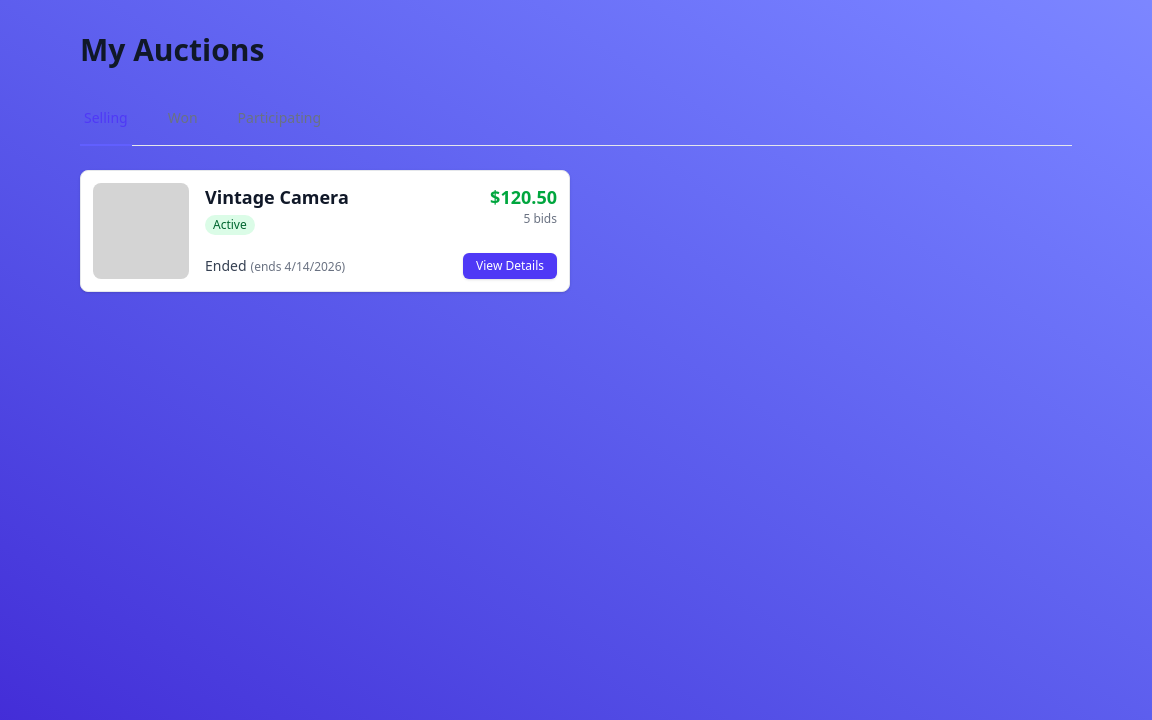
Test: UserAuctions Component › shows empty state for participating auctions without create button
Click the button "Participating" at [279, 119], box [234,92,325,146]
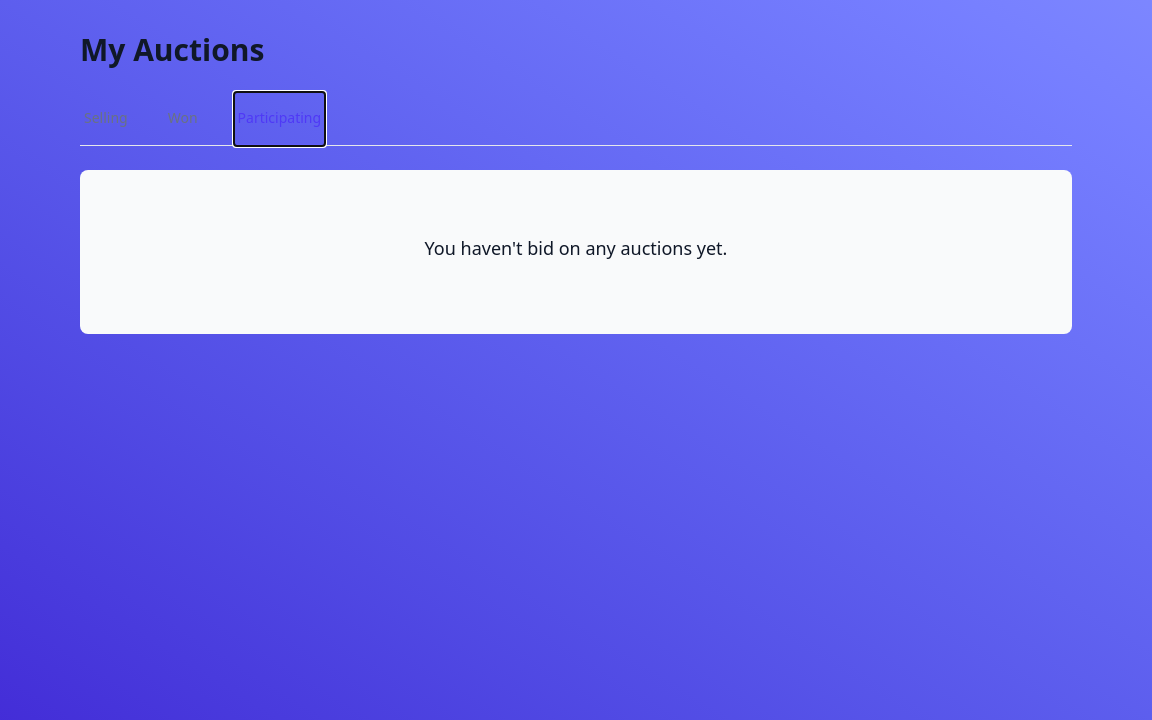
Now the heading "You haven't bid on any auctions yet." is shown, box [424,236,727,260]
